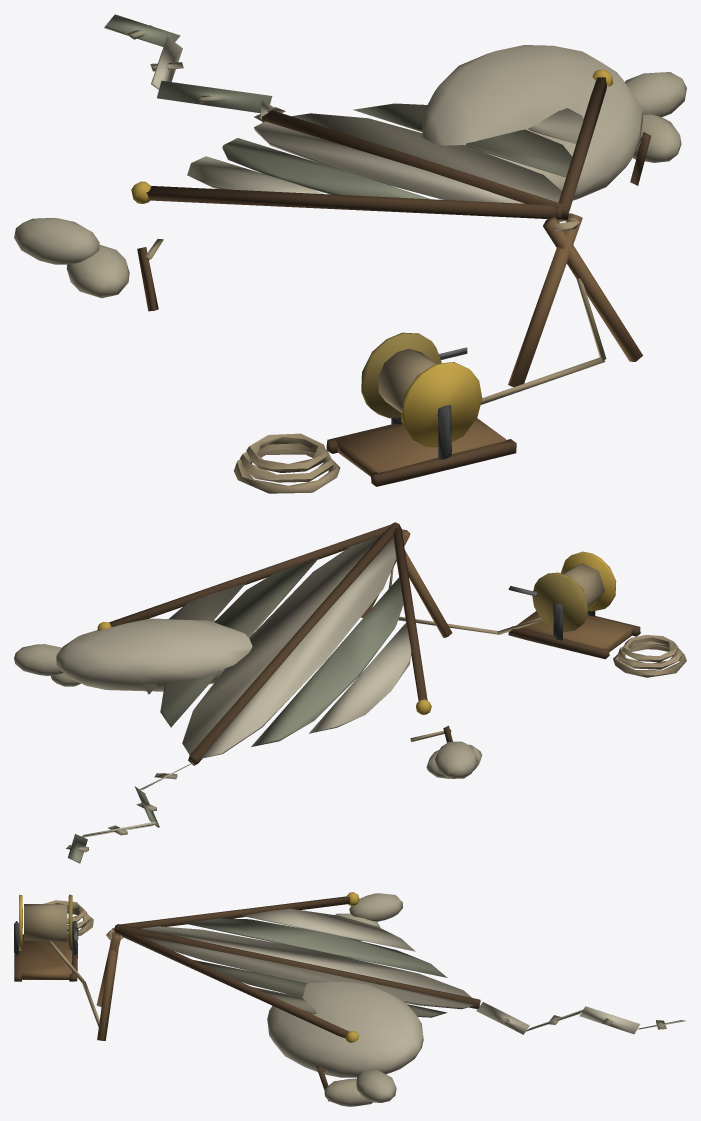
Rendered from moored_kite_b_lod2.glb.
3 views of the same model, one above another, from view 1: azimuth 30°, elevation 25°; view 2: azimuth 150°, elevation 25°; view 3: azimuth 270°, elevation 25° (orthographic). The views are drawn at different scales.
Parts seen in each view (by area): view 1: Surface.001; view 2: Surface.001; view 3: Surface.001.
Part boxes in pixels (left/top/right/bottom): Surface.001: left=14, top=14, right=686, bottom=493; Surface.001: left=14, top=522, right=686, bottom=863; Surface.001: left=14, top=892, right=685, bottom=1106.
Bounding box in the file's own units: 6.34 × 1.44 × 8.53.
